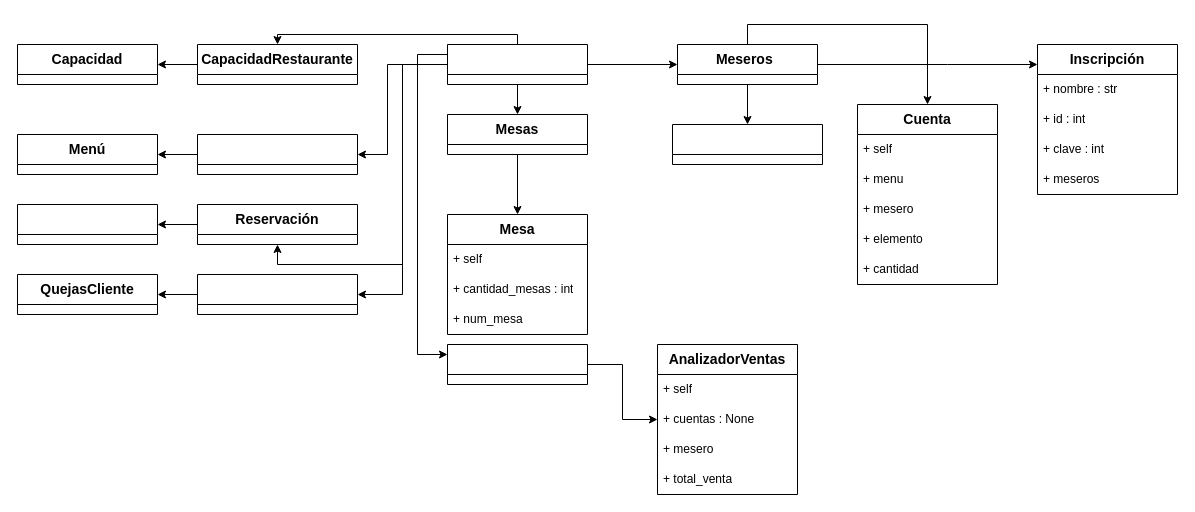
Image size: 1195x512. Some labels were removed from this diagram. The shapes that lost their labels are listed below. From the top down, each one's centre as x and y in pixels, then its label:
the point at 517,64: Restaurante
the point at 277,154: QrMenú
the point at 747,144: Meserosquesetienen
the point at 87,224: MesasReservadas
the point at 277,294: Quejas
the point at 517,364: Venta
